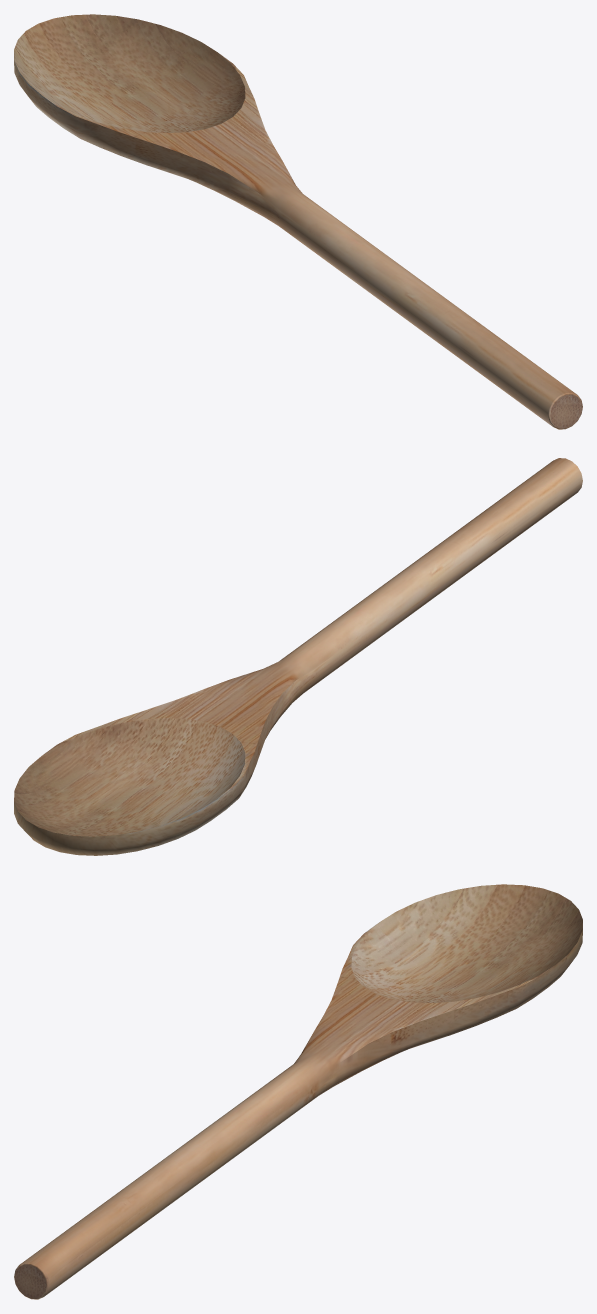
File: Spoon.fbx
The picture shows the model from 3 angles, top to bottom: view 1: azimuth 30°, elevation 25°; view 2: azimuth 150°, elevation 25°; view 3: azimuth 330°, elevation 25°; orthographic projection.
Visible parts, largest first — view 1: cooking spoon; view 2: cooking spoon; view 3: cooking spoon.
Part boxes in pixels (x1,y1,x2,y2): cooking spoon: (14,14,582,429); cooking spoon: (14,458,582,855); cooking spoon: (14,884,582,1299).
Size of the model in its own units: 5.95 by 1.19 by 30.
Materials: 1 (1 with a texture image).
